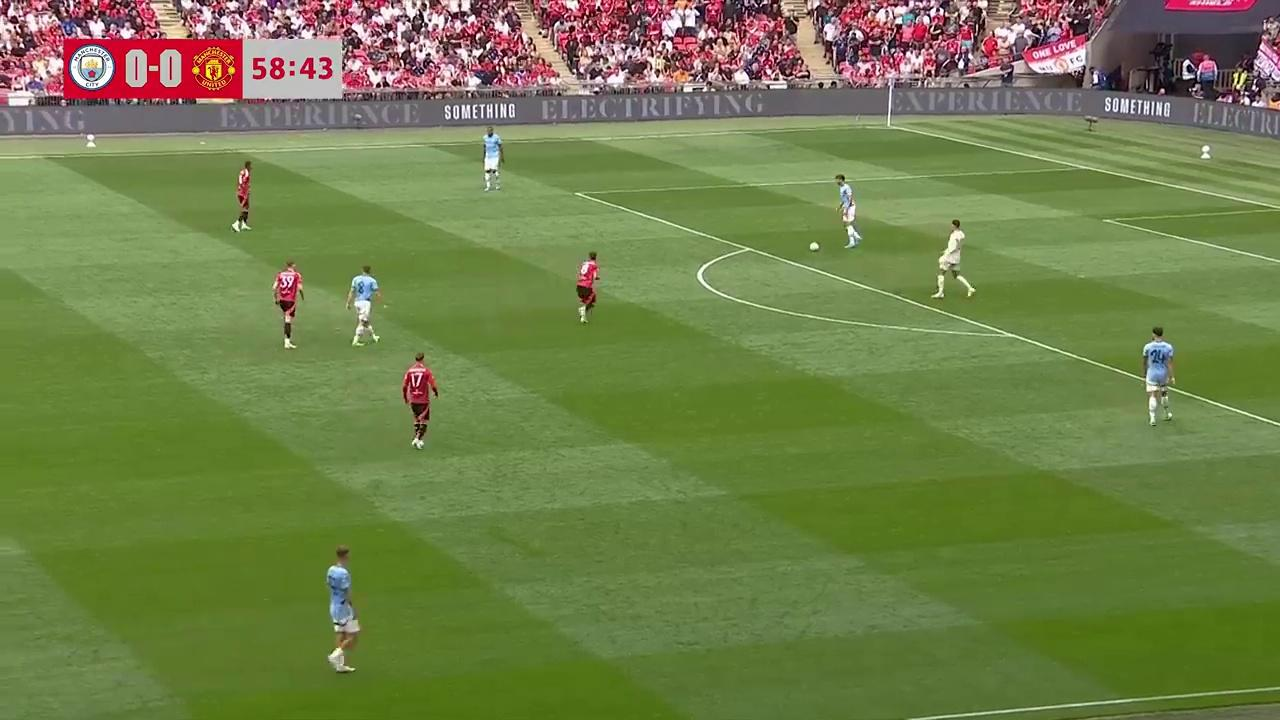ball: (808, 238, 821, 253)
player: (325, 545, 361, 673), (930, 219, 975, 299), (402, 352, 439, 449), (1142, 327, 1174, 425), (346, 264, 384, 346), (272, 259, 305, 349), (837, 177, 862, 247), (576, 252, 600, 324), (232, 160, 252, 232), (482, 128, 503, 191)
